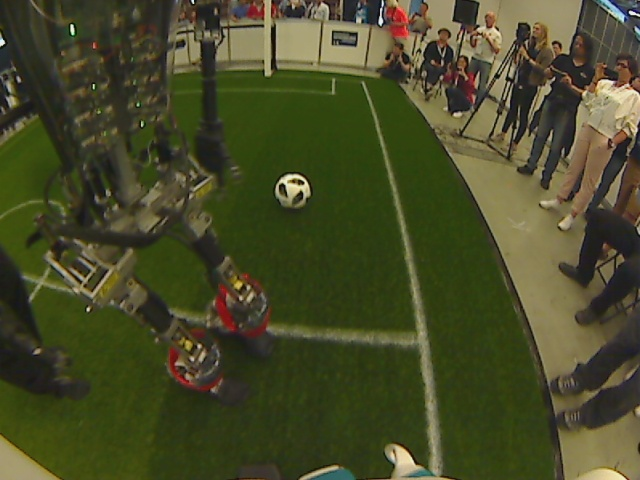ball: (273, 174, 311, 209)
